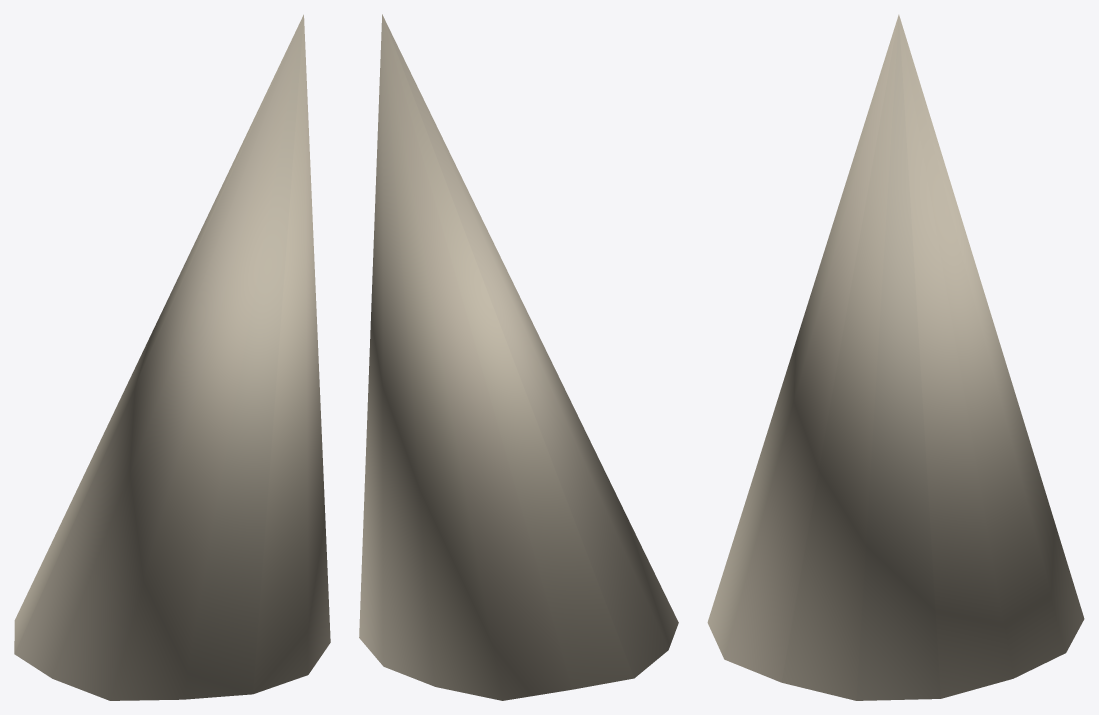
Rendered from Spider_Fang.glb.
The picture shows the model from 3 angles, left to right: view 1: azimuth 30°, elevation 25°; view 2: azimuth 150°, elevation 25°; view 3: azimuth 270°, elevation 25°; orthographic projection. The views are drawn at different scales.
Visible parts, largest first — view 1: Spider_Fang; view 2: Spider_Fang; view 3: Spider_Fang.
Part boxes in pixels (left/top/right/bottom): Spider_Fang: left=14, top=14, right=330, bottom=700; Spider_Fang: left=359, top=14, right=678, bottom=700; Spider_Fang: left=707, top=14, right=1084, bottom=700.
Size of the model in its own units: 0.1977 by 0.4021 by 0.2003.
